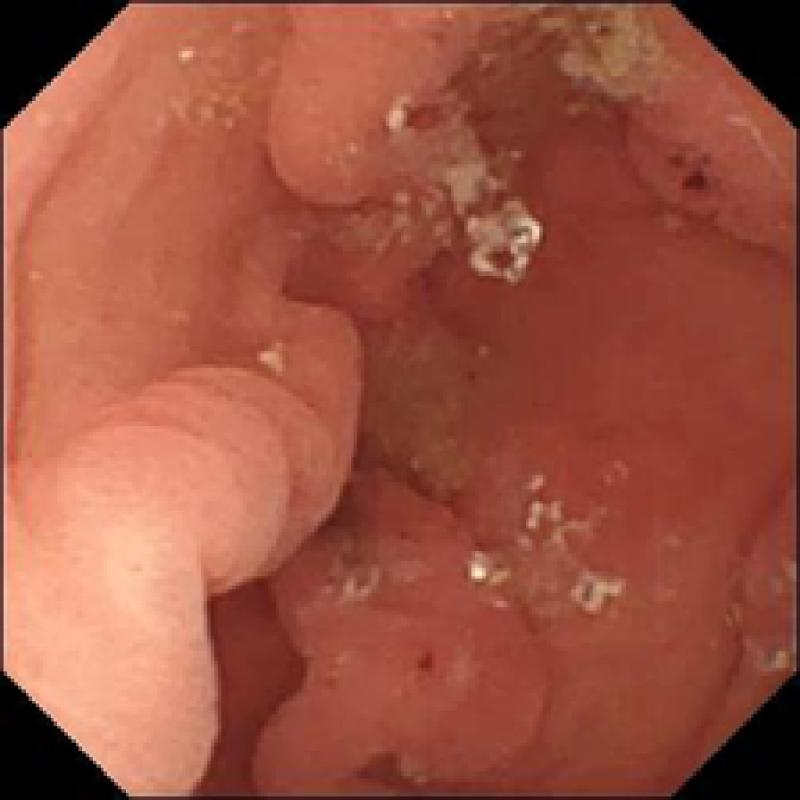bleeding: (646, 143, 736, 211), (413, 641, 446, 678)
